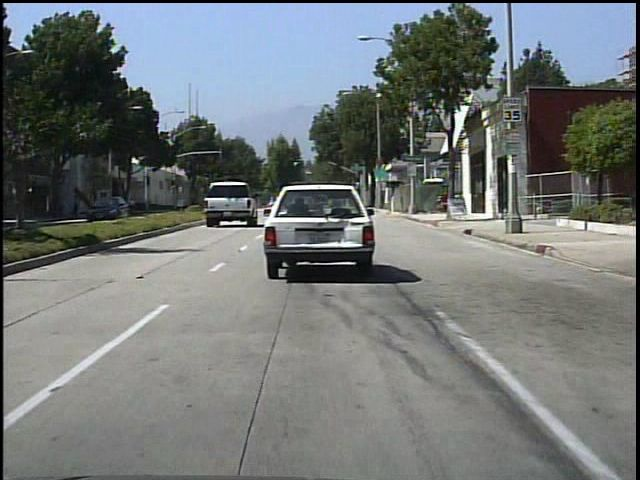person: (125, 193, 140, 216), (72, 197, 84, 220)
